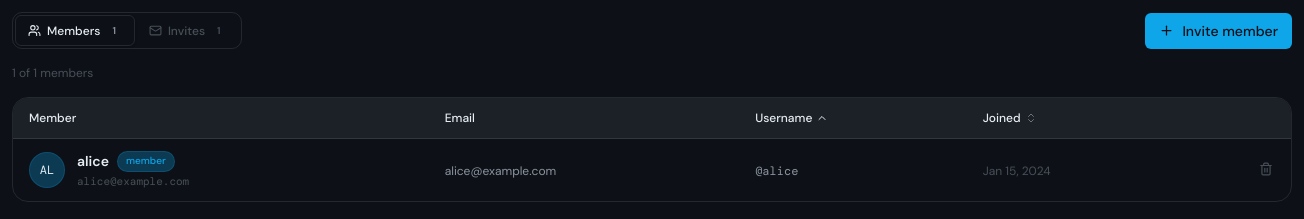
Scenario: MembersTab › tab switching › switches to invites tab on click
Click the button "Invites 1" at (188, 31), box [137,16,238,45]
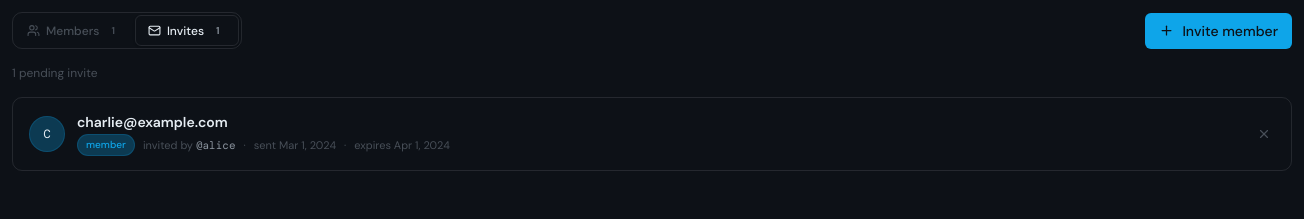
Now the text "1 pending invite" is shown, box [12,65,98,81]
